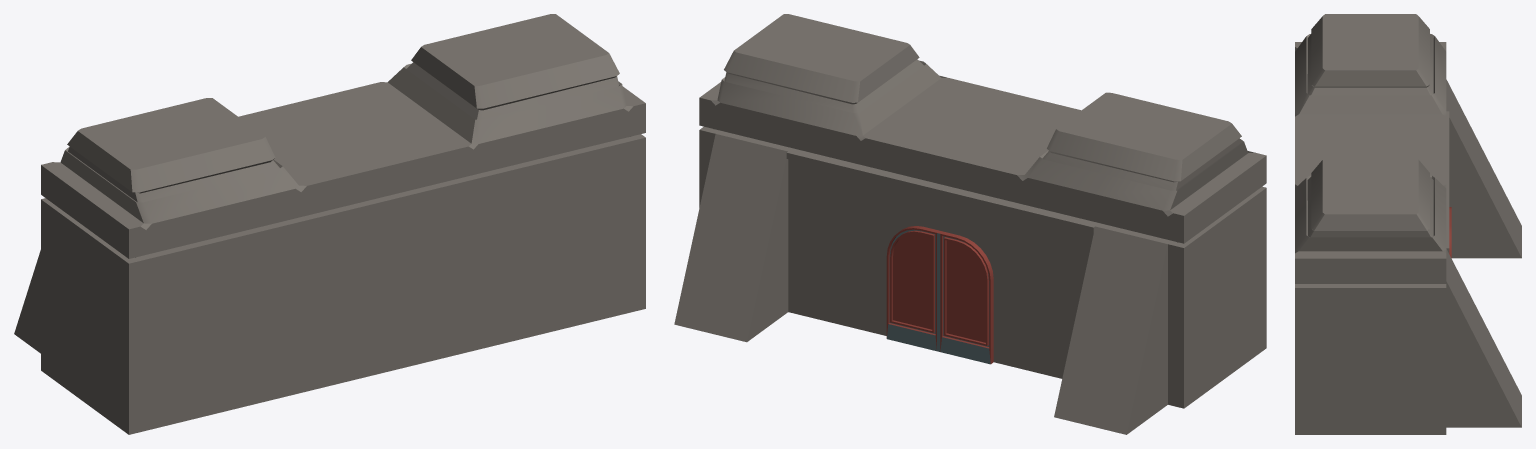
The model's file is Front Wall.fbx.
The picture shows the model from 3 angles, left to right: view 1: azimuth 30°, elevation 25°; view 2: azimuth 150°, elevation 25°; view 3: azimuth 270°, elevation 25°; orthographic projection. The views are drawn at different scales.
Parts seen in each view (by area): view 1: front wal; view 2: front wal; view 3: front wal.
Boxes of the visible parts, box(x1,y1,x2,y2) form: front wal: box(14, 14, 645, 434); front wal: box(674, 14, 1266, 434); front wal: box(1295, 14, 1521, 434).
Bounding box in the file's own units: 1265 × 579 × 560.
